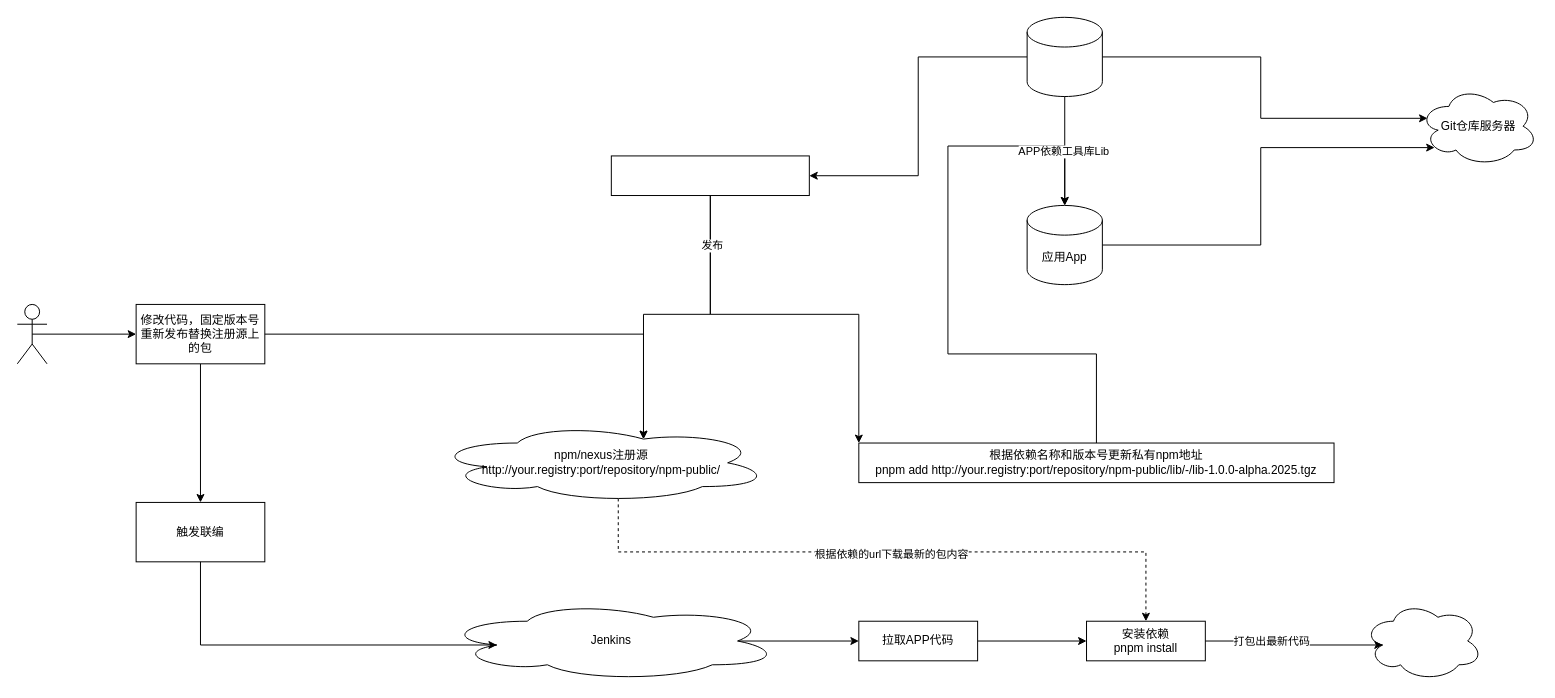
Some shapes in this 1555 by 698 pixel diagram are drawn without their labels. Here are the shapes that lost their labels. From the top down, the centre of each, then its label:
point (1064, 56): 工具库Lib
point (709, 175): 确定阶段性版本号并固定 eg: 1.0.0-alpha.2025
point (31, 333): Actor
point (1423, 640): 测试服务器
